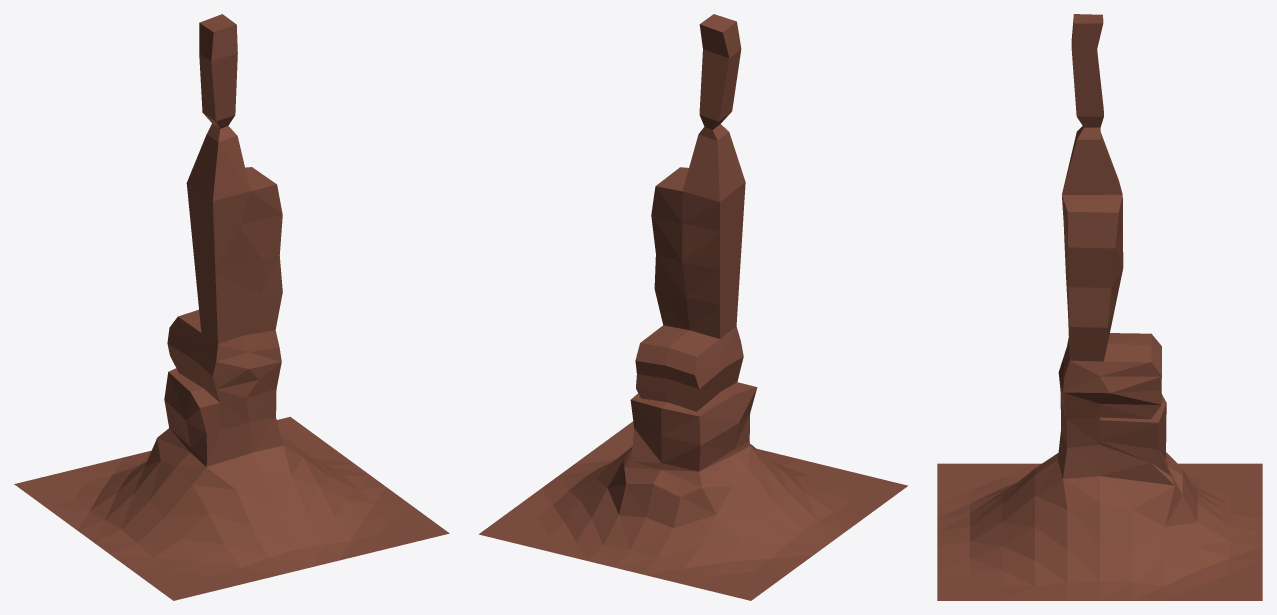
File: desertArt.fbx
3 renders of one model, left to right at view 1: azimuth 30°, elevation 25°; view 2: azimuth 150°, elevation 25°; view 3: azimuth 270°, elevation 25°, orthographic. The views are drawn at different scales.
Visible parts, largest first — view 1: desertArt; view 2: desertArt; view 3: desertArt.
Part boxes in pixels (x1,y1,x2,y2): desertArt: (14,14,449,600); desertArt: (479,14,907,600); desertArt: (937,14,1262,600).
Size of the model in its own units: 56.25 by 96.37 by 56.25.
